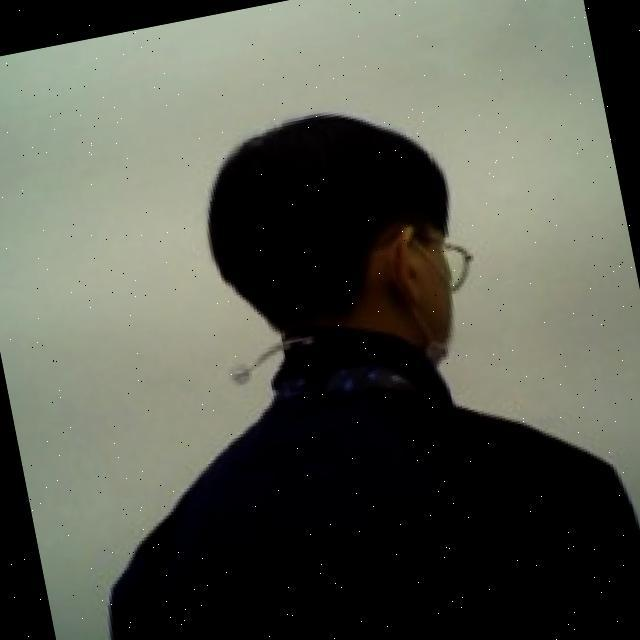no_gloves: (182, 84, 479, 358)
